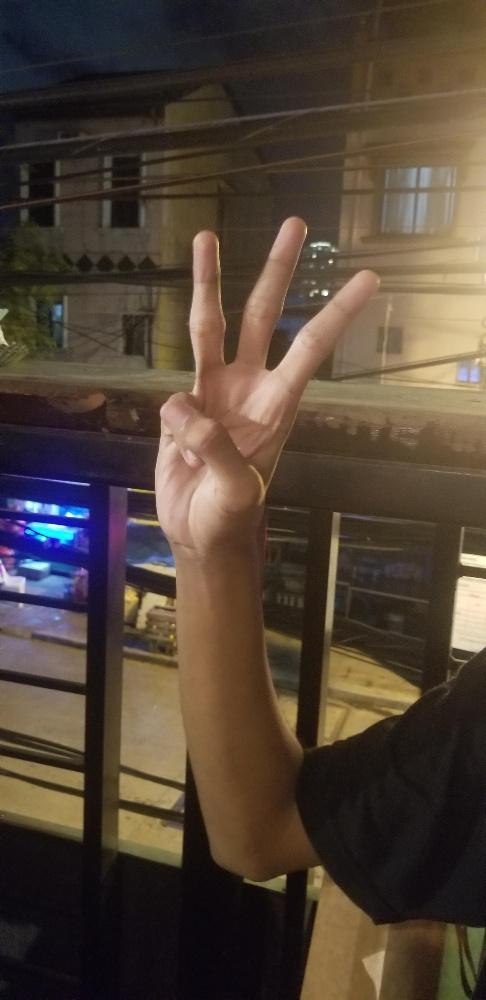w: (150, 213, 381, 548)
